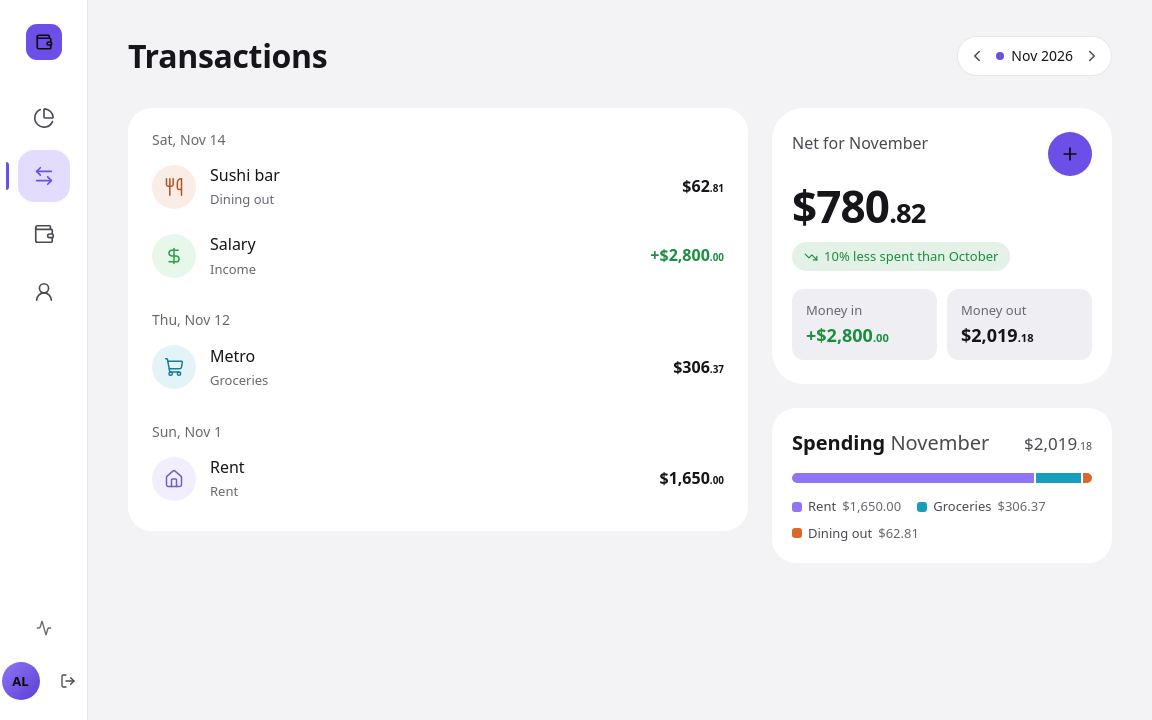
it: an amount that is not a number is caught before anything is sent
Expected: the element "Net for November" is shown, x1=772 y1=108 x2=1112 y2=384
Click the button named "New transaction" at (1070, 154), box x1=1048 y1=132 x2=1092 y2=176
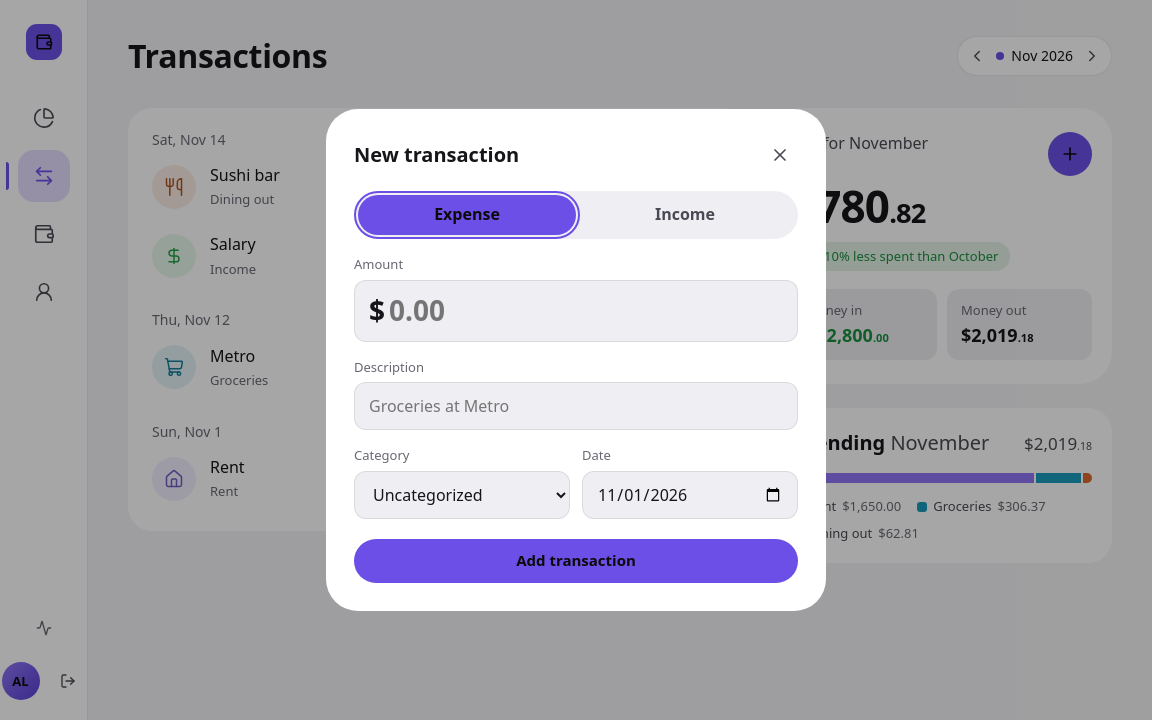
Type "twelve" into the field labelled "Amount" at (593, 311), box x1=389 y1=281 x2=797 y2=341
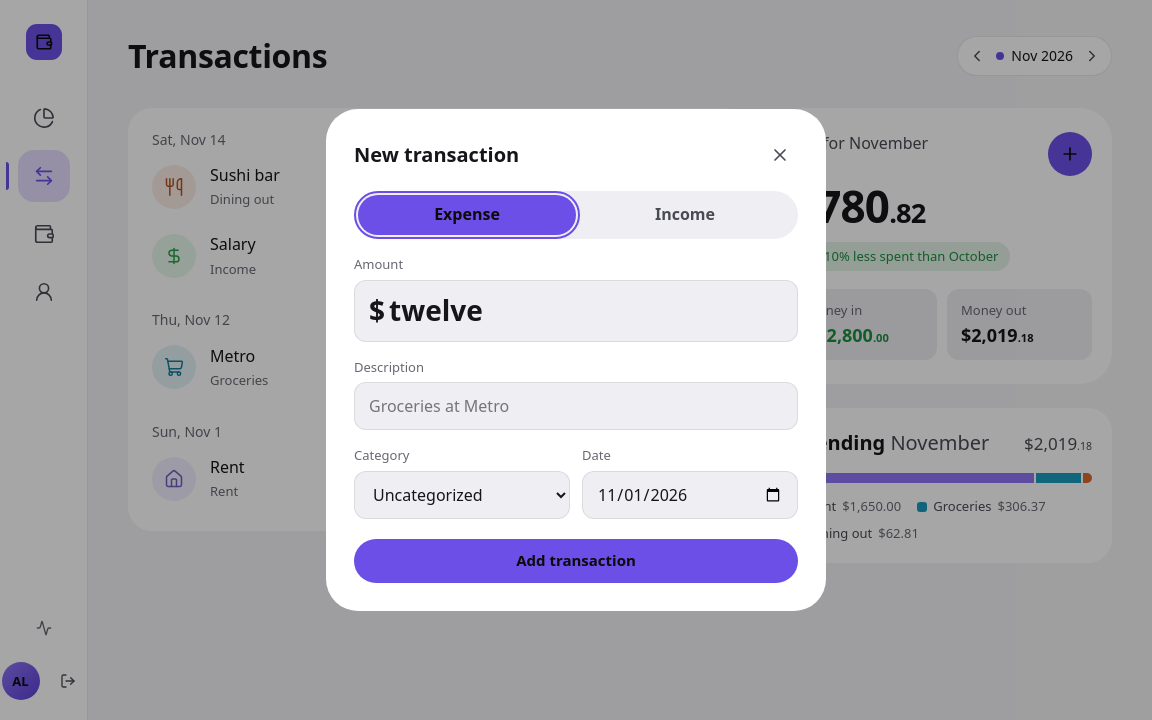
Type "Coffee" into the field labelled "Description" at (576, 406), box x1=354 y1=382 x2=798 y2=430
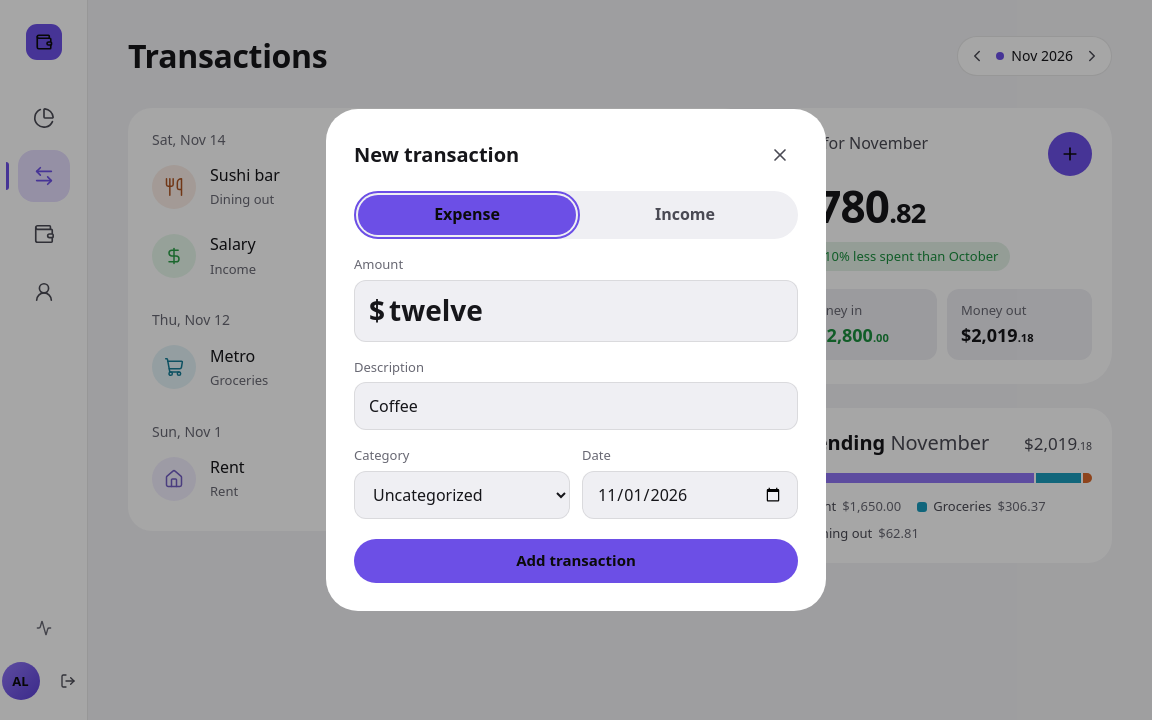
Click the button "Add transaction" at (576, 561), box x1=354 y1=539 x2=798 y2=583
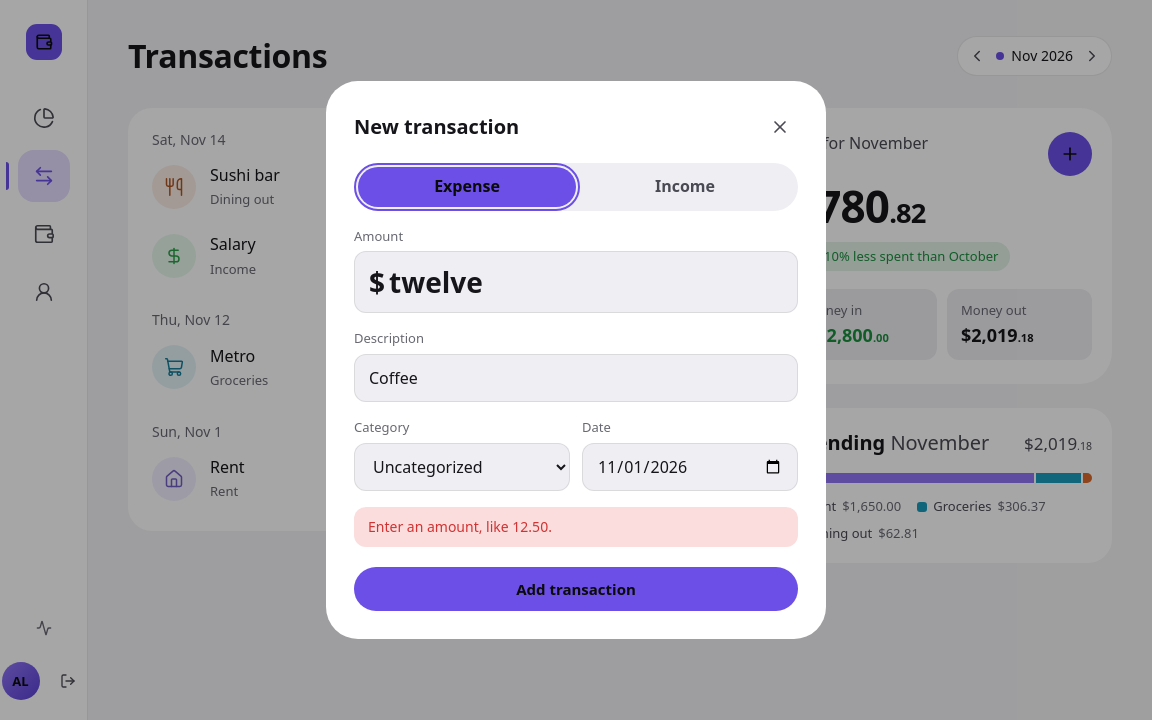
Expected: the message reads "Enter an amount, like 12.50.", x1=368 y1=517 x2=552 y2=536
